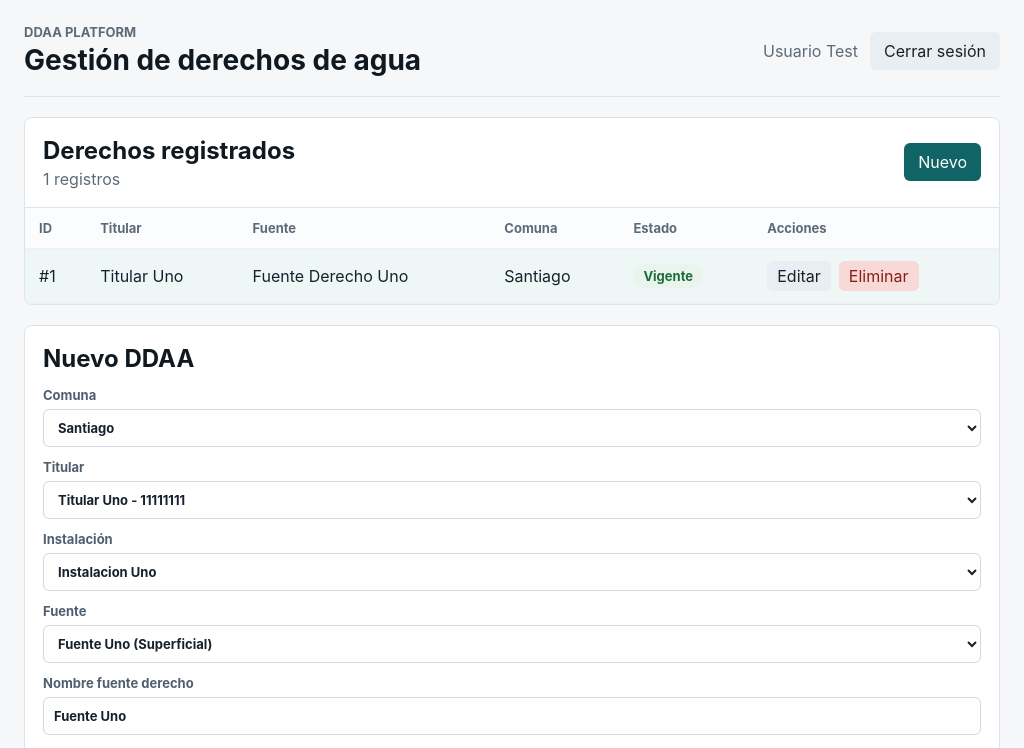
Test case: HomePage › should delete DDAA when user confirms deletion
This screenshot has width=1024, height=748.
Expected: the text "1 registros" is shown, [43,169,120,189]
se elimina el registro seleccionado.
Click the button "Eliminar". click: {"x": 879, "y": 276}
box: [839,261,918,291]
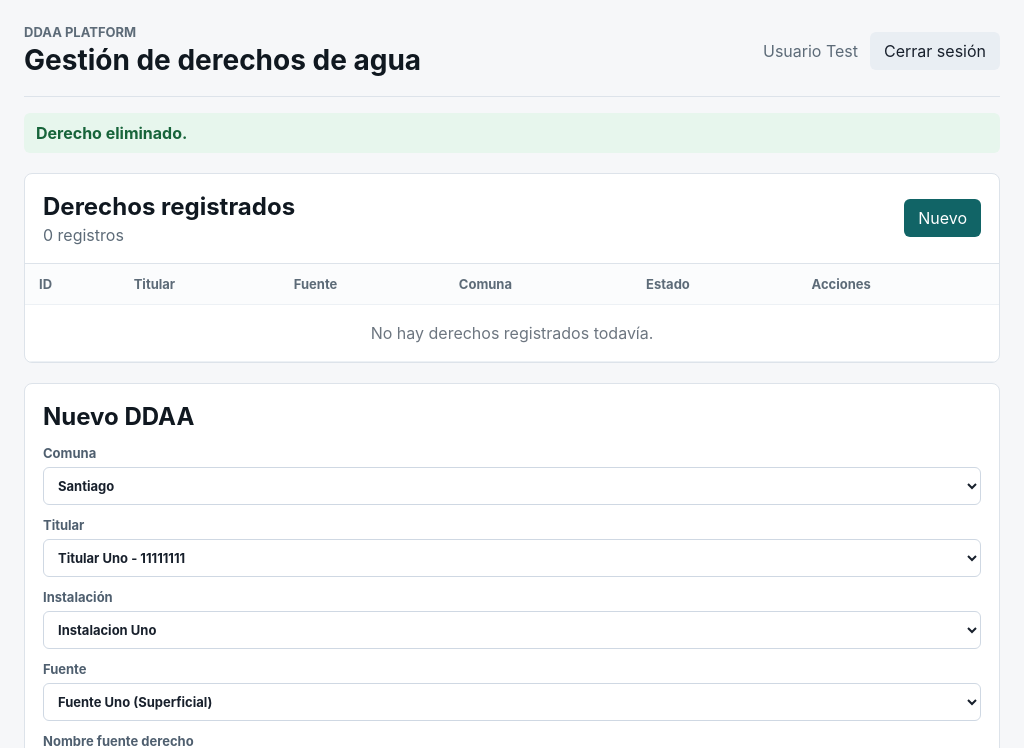
Expected: the text "Derecho eliminado." is shown, [24,113,1000,153]
Expected: the text "0 registros" is shown, [43,225,124,245]
